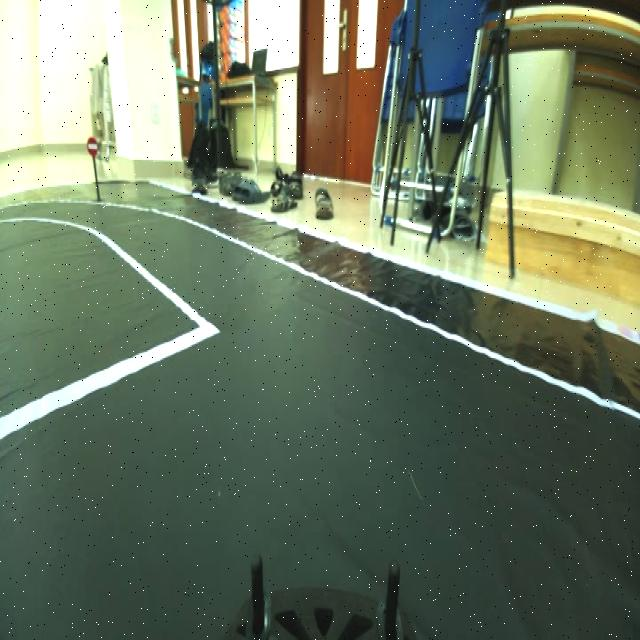no_entry: (84, 130, 100, 158)
